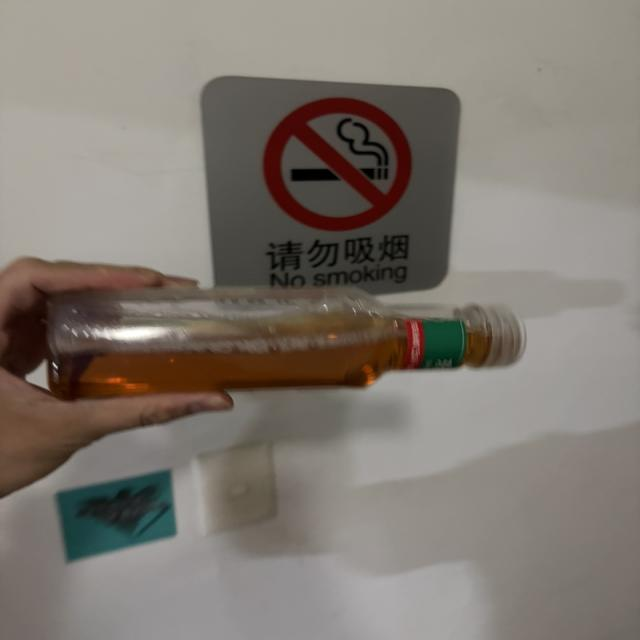medium: (46, 286, 524, 400)
